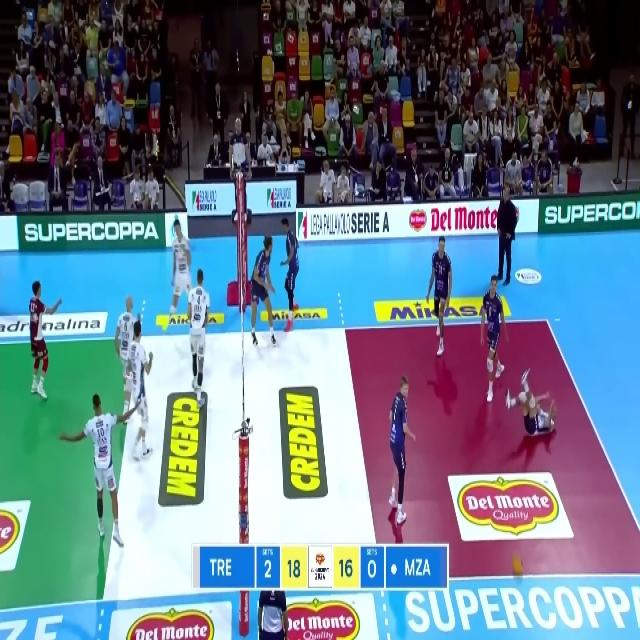volleyball court: (2, 317, 640, 612)
